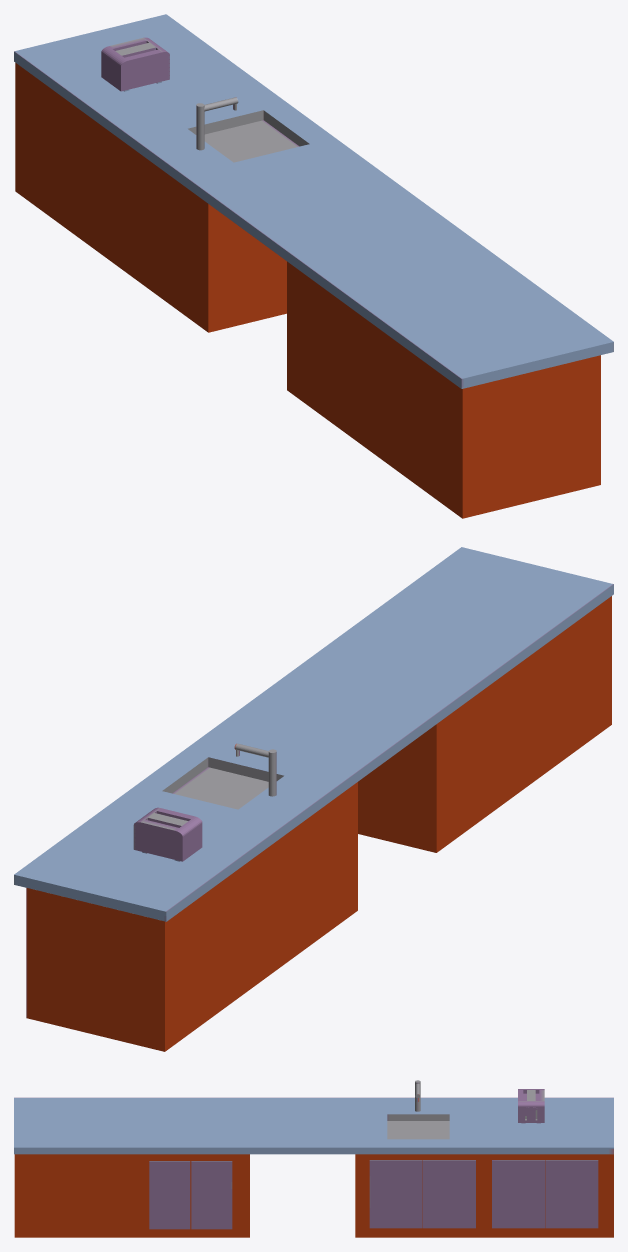
File: Fregadero.obj
3 views of the same model, one above another, from view 1: azimuth 30°, elevation 25°; view 2: azimuth 150°, elevation 25°; view 3: azimuth 270°, elevation 25° (orthographic). The views are drawn at different scales.
Visible parts, largest first — view 1: Cube.024_Cube.089; view 2: Cube.024_Cube.089; view 3: Cube.024_Cube.089.
Boxes of the visible parts, bbox=[...] form: Cube.024_Cube.089: bbox=[14, 14, 613, 518]; Cube.024_Cube.089: bbox=[14, 547, 613, 1051]; Cube.024_Cube.089: bbox=[14, 1080, 613, 1237].
Size of the model in its own units: 10.09 by 11.65 by 51.32.
Materials: 1 (1 with a texture image).
